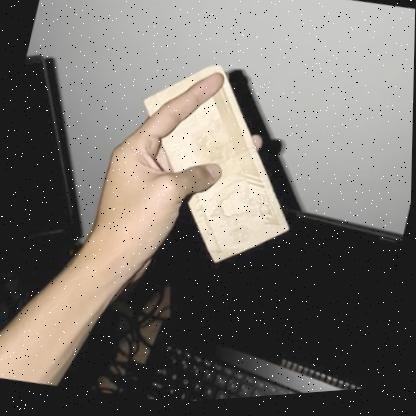five-back-vef: (108, 47, 325, 285)
